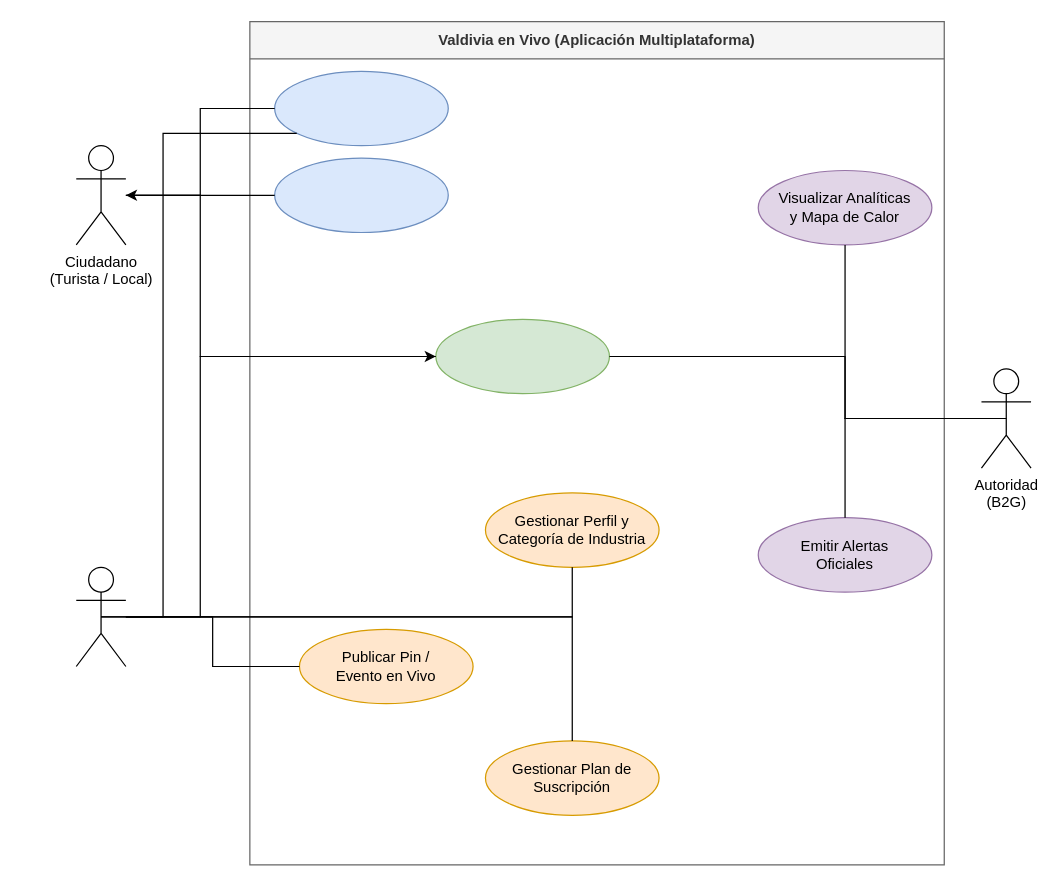
Image size: 1059x887. Some labels were removed from this diagram. Here are the shapes that lost their labels. From the top down, the centre of each, then its label:
(360,108): Ver Mapa y Eventos en Tiempo Real
(360,194): Guardar Favoritos y Recibir Alertas
(522,356): Autenticación (Registro / Login)
(100,616): Partner (Negocio / Prensa / etc.)
